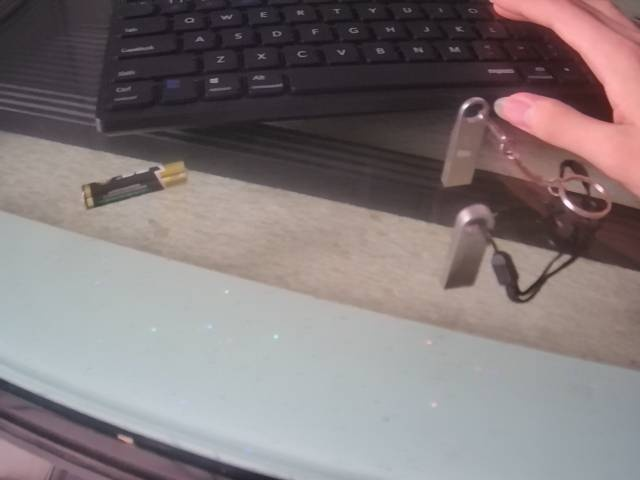U-disk: (437, 96, 612, 221), (439, 201, 589, 306)
battery: (74, 160, 193, 211)
